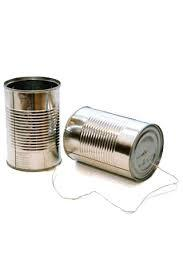Tin: (9, 41, 183, 218)
